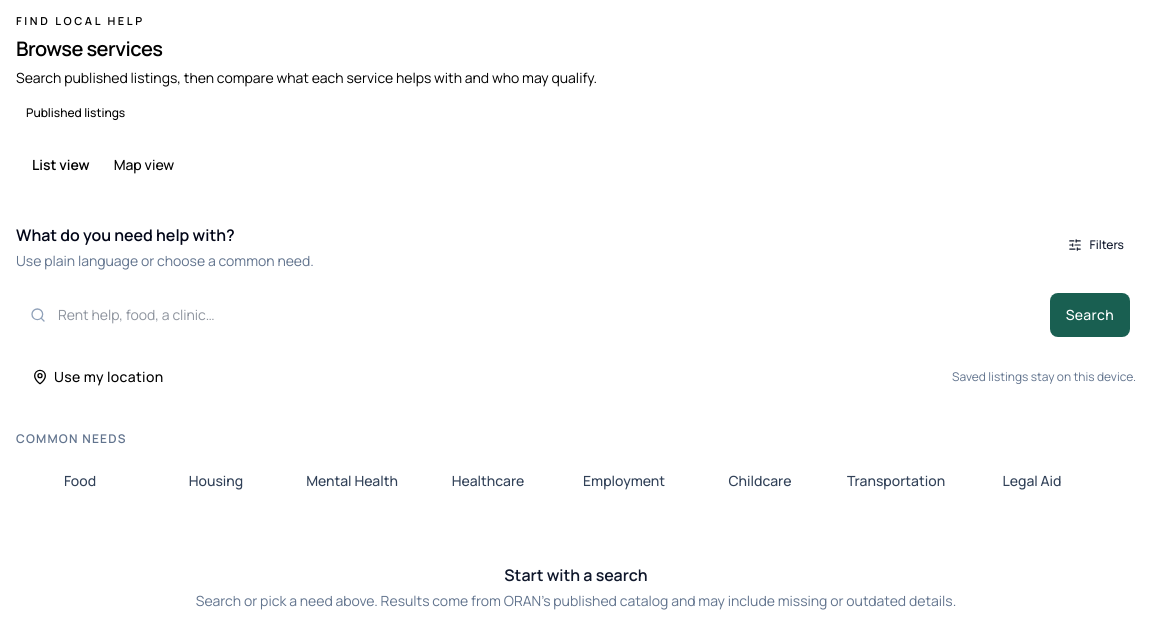
Test: DirectoryPageClient › shows API error responses in the inline alert
The width and height of the screenshot is (1153, 627).
Type "housing" into the search field named "Search services" at [548, 315], box [54,293,1042,337]
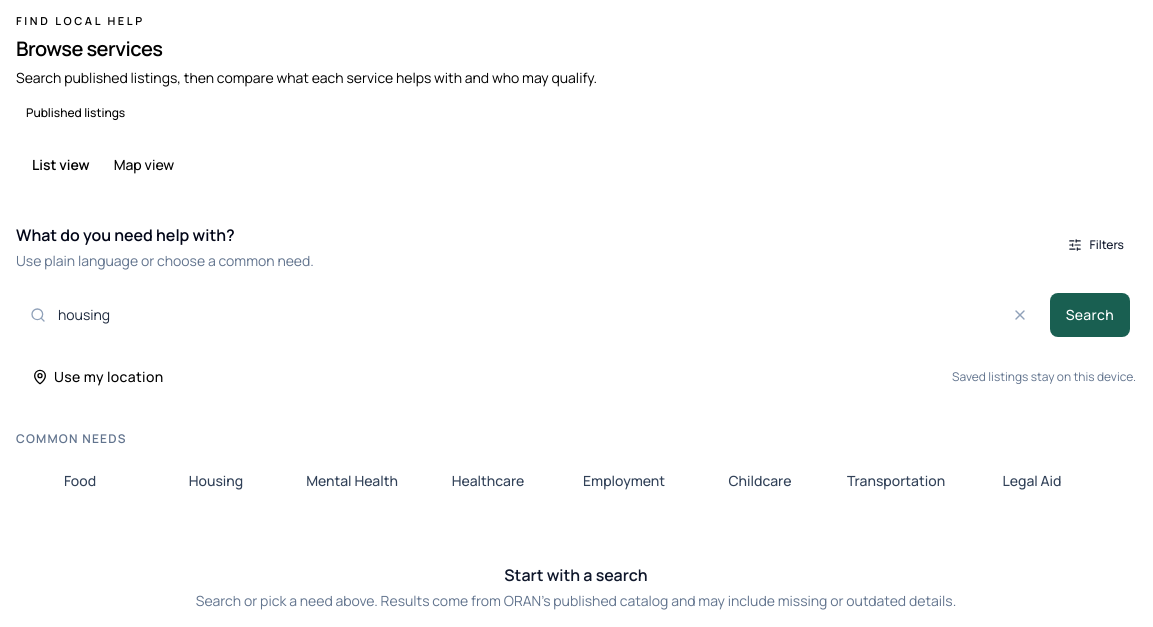
Click the button "Search" at [1090, 315], box [1050,293,1130,337]
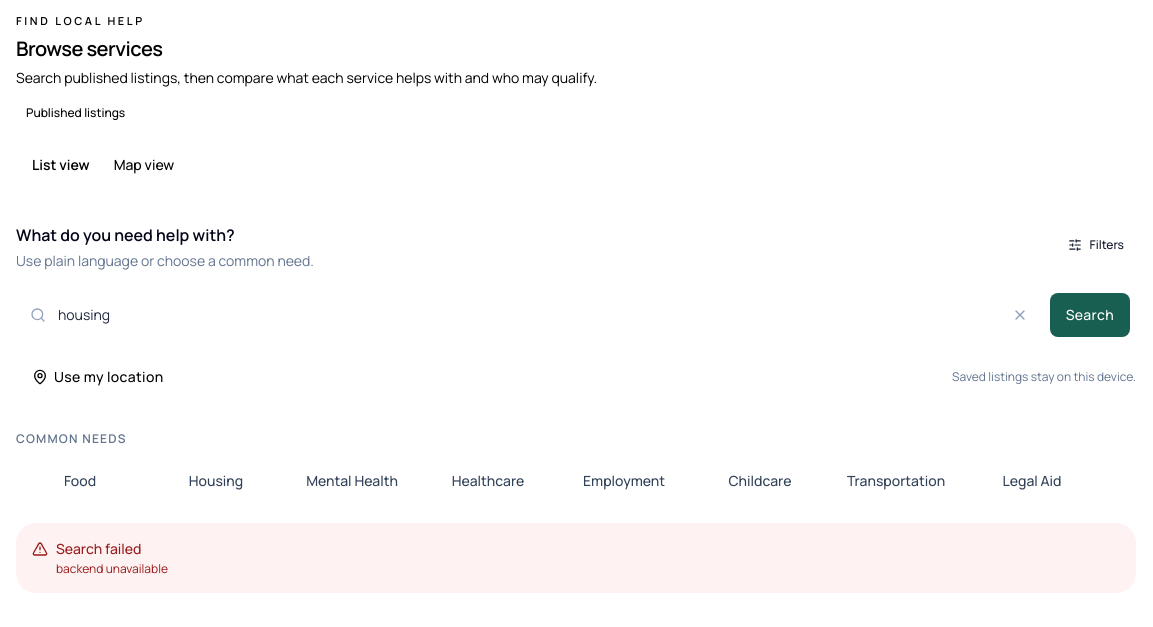
Check: the message "Search failed backend unavailable" is shown, box [16,523,1136,593]
Check: the text "Search failed" is shown, box [56,539,141,558]
Check: the text "backend unavailable" is shown, box [56,561,168,577]
